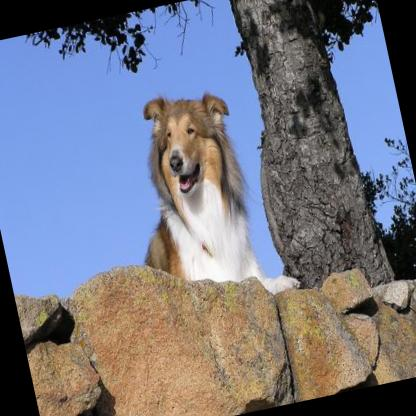collie: (111, 74, 296, 316)
